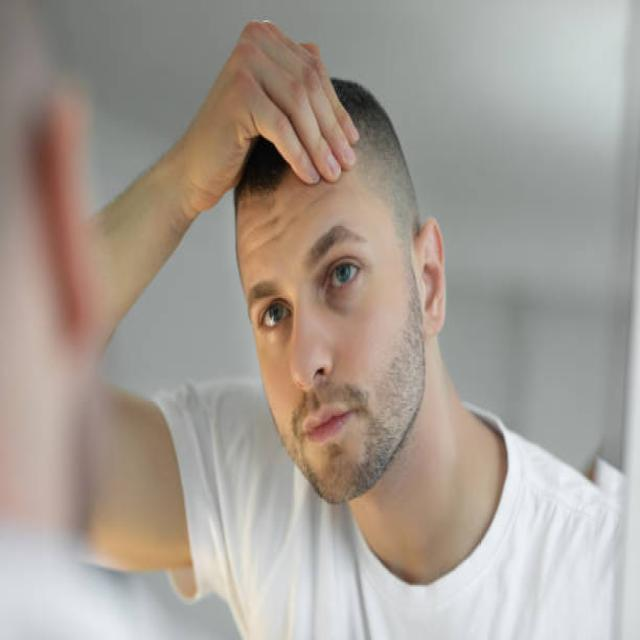Dry-Skin: (226, 193, 348, 281)
